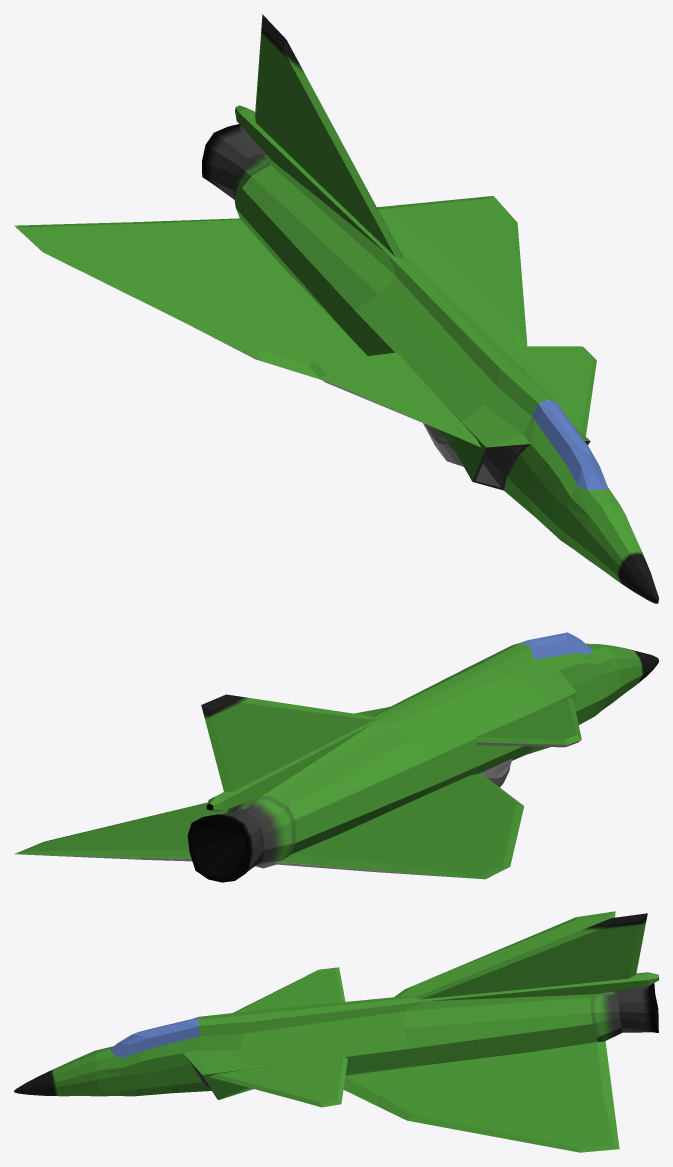
The model's file is ArenaMiscLaken.fbx.
3 renders of one model, top to bottom at view 1: azimuth 30°, elevation 25°; view 2: azimuth 150°, elevation 25°; view 3: azimuth 270°, elevation 25°, orthographic. The views are drawn at different scales.
Visible parts, largest first — view 1: Plane; view 2: Plane; view 3: Plane.
Boxes of the visible parts, x1,y1,x2,y2 form: Plane: [14, 14, 658, 603]; Plane: [14, 632, 658, 882]; Plane: [14, 911, 658, 1152].
Bounding box in the file's own units: 1050 × 558 × 1663.
Materials: 1 (1 with a texture image).
